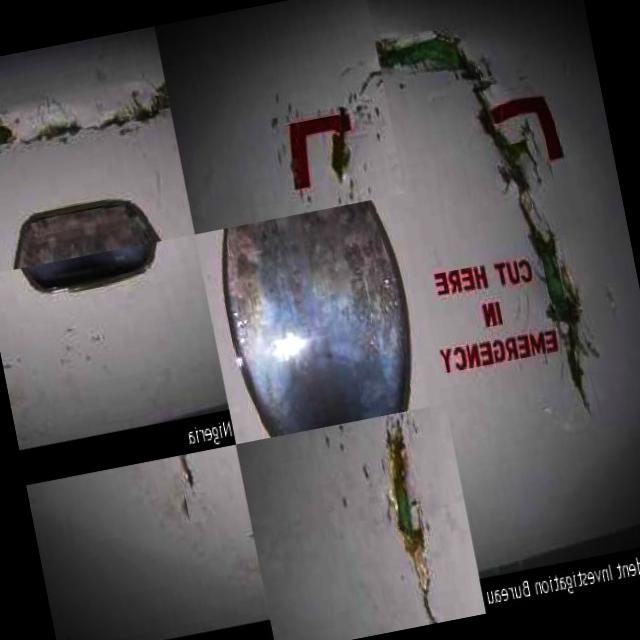crack: (373, 5, 608, 442), (0, 78, 176, 170), (378, 421, 446, 627)
